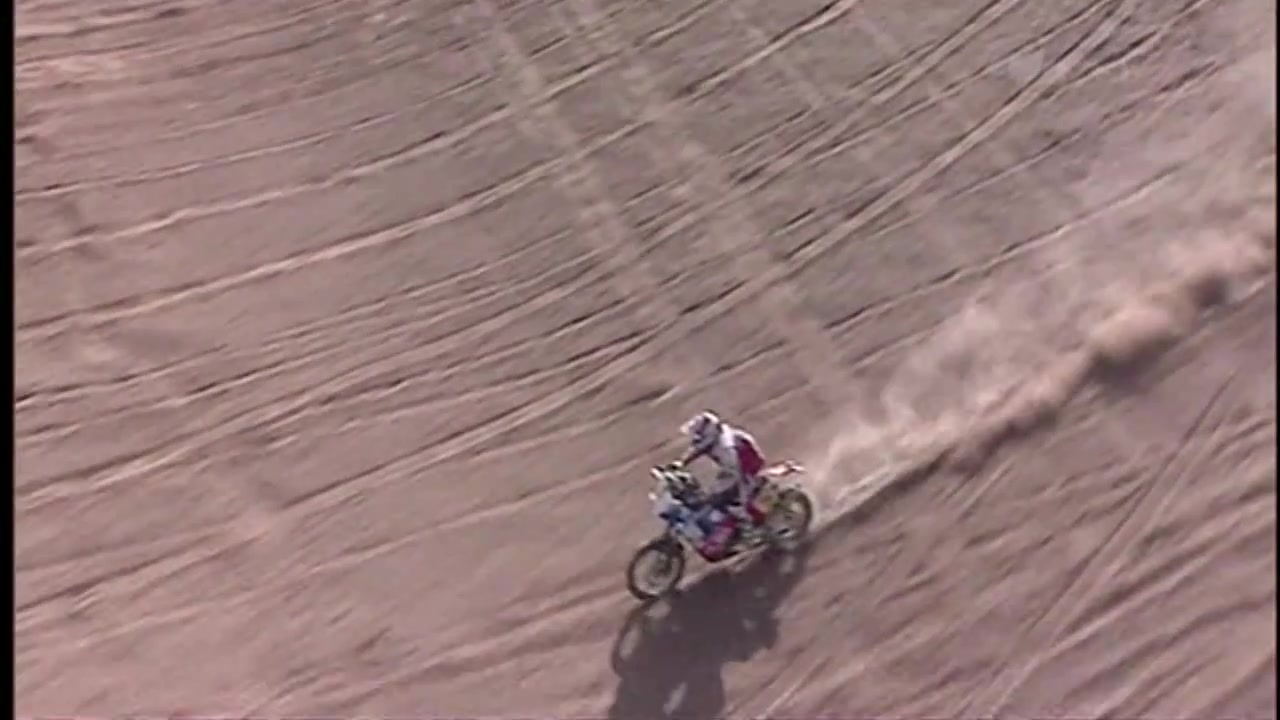motorbike: (626, 459, 815, 604)
